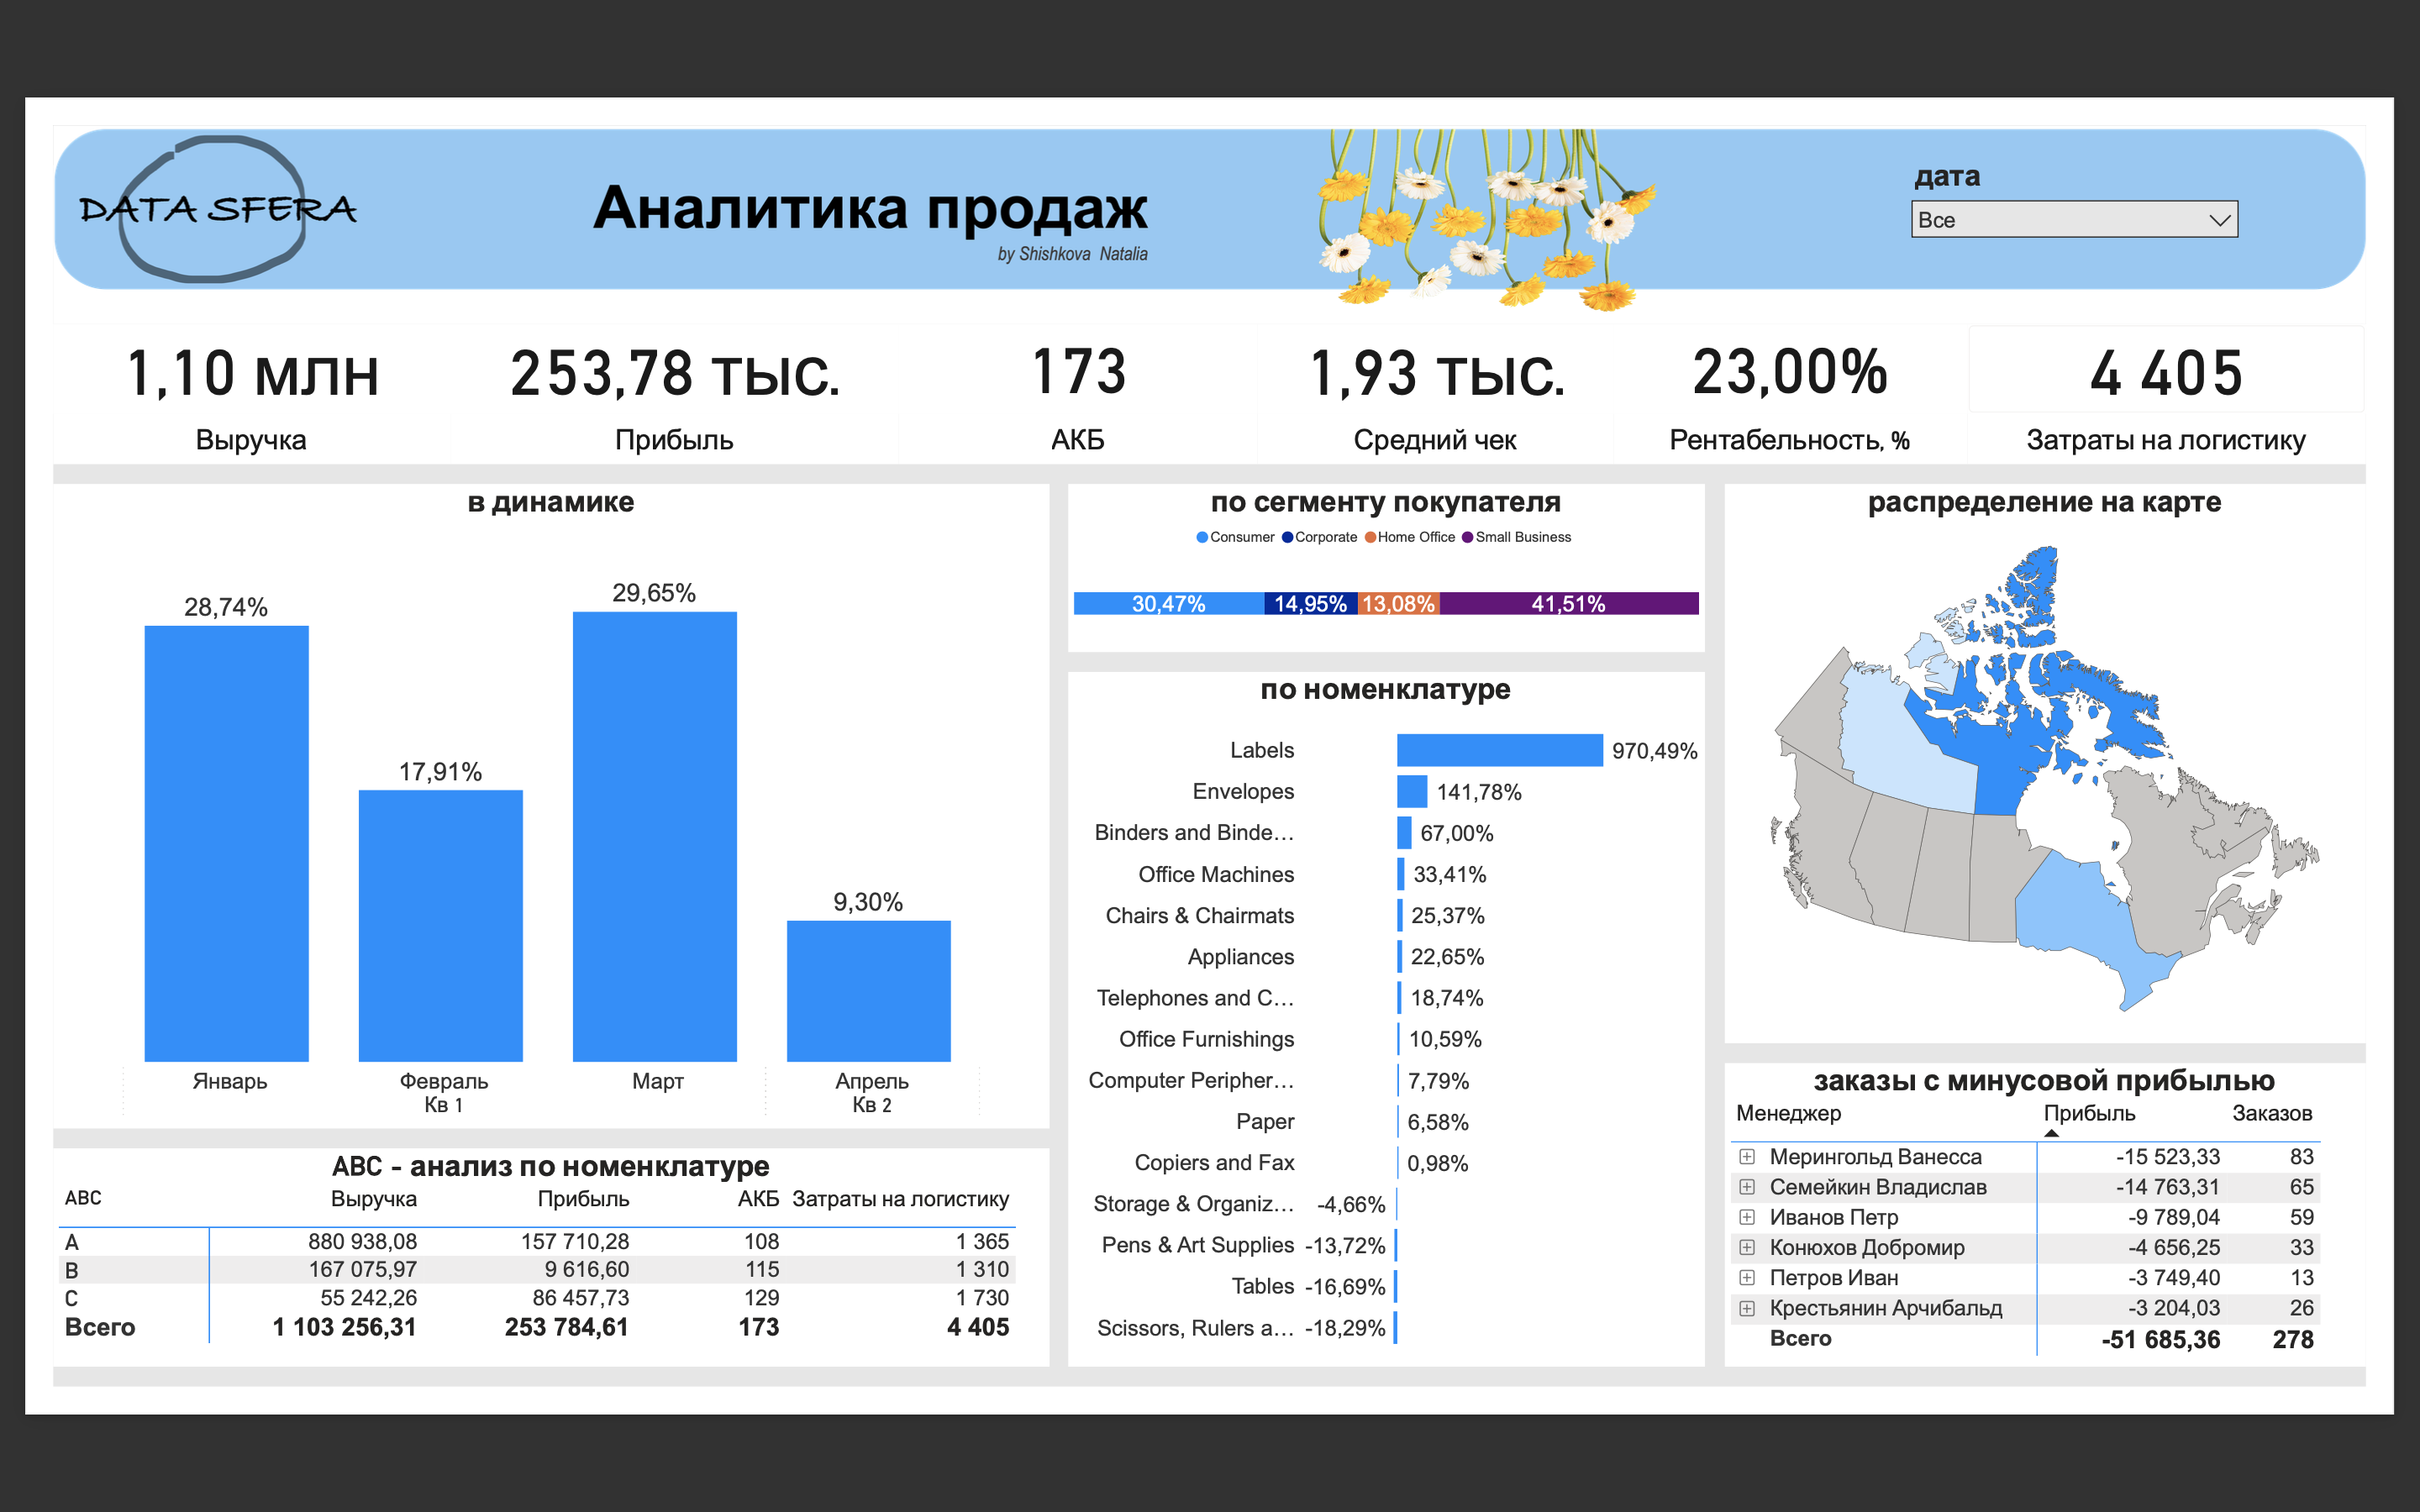

The page's visual inventory and layout, read from the dashboard file:
{"tool":"powerbi","page":{"name":"Dashboard_DataSfera","canvas":[1980,1080],"ordinal":0},"visuals":[{"type":"image","box":[0,0,1980,170],"z":0},{"type":"cardVisual","fields":{"Data":["Продажи.Выручка"]},"box":[0,170,340,77.1],"z":1000},{"type":"cardVisual","fields":{"Data":["Продажи.Прибыль"]},"box":[340,170,384.3,77.1],"z":2000},{"type":"cardVisual","fields":{"Data":["Продажи.АКБ"]},"box":[724.3,170,307.1,77.1],"z":3000},{"type":"cardVisual","fields":{"Data":["Продажи.Средний чек"]},"box":[1031.4,170,304.3,77.1],"z":4000},{"type":"cardVisual","fields":{"Data":["Продажи.Рентабельность"]},"box":[1335.7,170,302.9,77.1],"z":5000},{"type":"cardVisual","fields":{"Data":["Продажи.Затраты на логистику_"]},"box":[1638.6,170,341.4,77.1],"z":6000},{"type":"columnChart","title":"в динамике","fields":{"Category":["Календарь.Квартал","Календарь.Месяц"],"Y":["Продажи.Рентабельность"]},"box":[0,307,853,552],"z":7000},{"type":"shapeMap","title":"распределение на карте","fields":{"Category":["Продажи.Регион"],"Value":["Продажи.Рентабельность"]},"box":[1431,307,549,479],"z":8000},{"type":"pivotTable","title":"заказы с минусовой прибылью","fields":{"Rows":["СПР_Менеджеры.Менеджер","Продажи.Order_ID"],"Values":["Продажи.Прибыль","Продажи.Заказов"]},"box":[1431,803,549,260],"z":9000},{"type":"hundredPercentStackedBarChart","title":"по сегменту покупателя","fields":{"Y":["Продажи.Рентабельность"],"Series":["СПР_покупатели.Сегмент покупателя"]},"box":[869,307,545,144],"z":10000},{"type":"clusteredBarChart","title":"по номенклатуре","fields":{"Category":["СПР_продукты.Подкатегория продукта"],"Y":["Продажи.Рентабельность"]},"box":[869,468,545,595],"z":11000},{"type":"actionButton","box":[1638.6,247.1,341.4,42.9],"z":12000},{"type":"actionButton","box":[1335.7,247.1,302.9,42.9],"z":13000},{"type":"actionButton","box":[1031.4,247.1,304.3,42.9],"z":14000},{"type":"actionButton","box":[724.3,247.1,307.1,42.9],"z":15000},{"type":"actionButton","box":[340,247.1,384.3,42.9],"z":16000},{"type":"actionButton","box":[0,247.1,340,42.9],"z":17000},{"type":"pivotTable","title":"ABC - анализ по номенклатуре","fields":{"Rows":["ABC_таблица.ABC"],"Values":["Продажи.Выручка","Продажи.Прибыль","Продажи.АКБ","Продажи.Затраты на логистику"]},"box":[0,876,853,187],"z":19001},{"type":"slicer","fields":{"Values":["Календарь.Date.Изменение.Иерархия дат.Месяц","Календарь.Date.Изменение.Иерархия дат.День"]},"box":[1581.4,22.9,300,97.1],"z":19002}]}

Visuals, with their boxes on the page's 1980x1080 design canvas (x1, y1, x2, y2). These are canvas units, not pixel positions in the 2420x1512 screenshot, which may show the page scaled, cropped or inside an application window:
image: 0 0 1980 170
cardVisual - Продажи.Выручка: 0 170 340 247
cardVisual - Продажи.Прибыль: 340 170 724 247
cardVisual - Продажи.АКБ: 724 170 1031 247
cardVisual - Продажи.Средний чек: 1031 170 1336 247
cardVisual - Продажи.Рентабельность: 1336 170 1639 247
cardVisual - Продажи.Затраты на логистику_: 1639 170 1980 247
"в динамике" columnChart: 0 307 853 859
"распределение на карте" shapeMap: 1431 307 1980 786
"заказы с минусовой прибылью" pivotTable: 1431 803 1980 1063
"по сегменту покупателя" hundredPercentStackedBarChart: 869 307 1414 451
"по номенклатуре" clusteredBarChart: 869 468 1414 1063
actionButton: 1639 247 1980 290
actionButton: 1336 247 1639 290
actionButton: 1031 247 1336 290
actionButton: 724 247 1031 290
actionButton: 340 247 724 290
actionButton: 0 247 340 290
"ABC - анализ по номенклатуре" pivotTable: 0 876 853 1063
slicer - Календарь.Date.Изменение.Иерархия дат.Месяц x Календарь.Date.Изменение.Иерархия дат.День: 1581 23 1881 120
